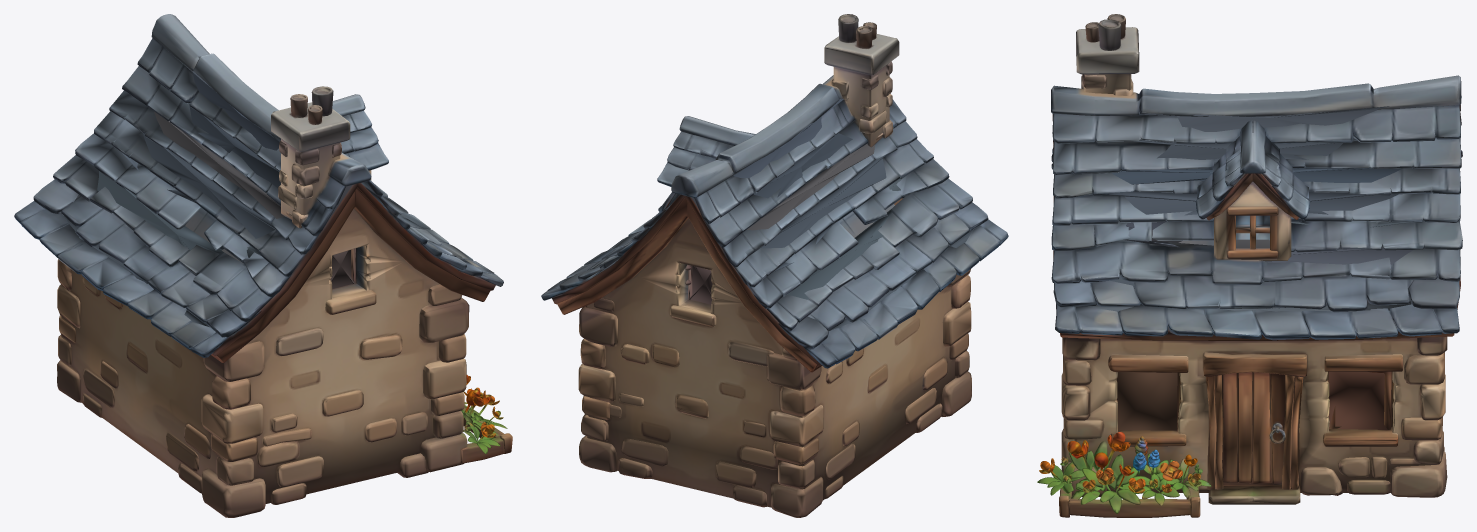
3 views of the same model, side by side, from view 1: azimuth 30°, elevation 25°; view 2: azimuth 150°, elevation 25°; view 3: azimuth 270°, elevation 25° (orthographic). The views are drawn at different scales.
Parts seen in each view (by area): view 1: tripo_node_9b04cfd0; view 2: tripo_node_9b04cfd0; view 3: tripo_node_9b04cfd0.
Part boxes in pixels (x1,y1,x2,y2): tripo_node_9b04cfd0: [14, 14, 512, 517]; tripo_node_9b04cfd0: [541, 14, 1008, 517]; tripo_node_9b04cfd0: [1037, 14, 1462, 517].
Bounding box in the file's own units: 0.8706 × 0.9995 × 0.9341.
1 material, 1 textured.
